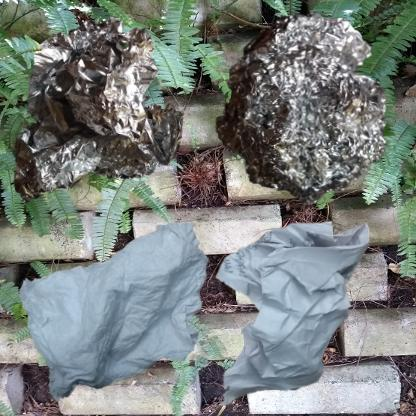aluminio: (10, 10, 193, 216), (213, 10, 389, 206)
papel: (10, 213, 256, 416), (213, 213, 371, 409)
